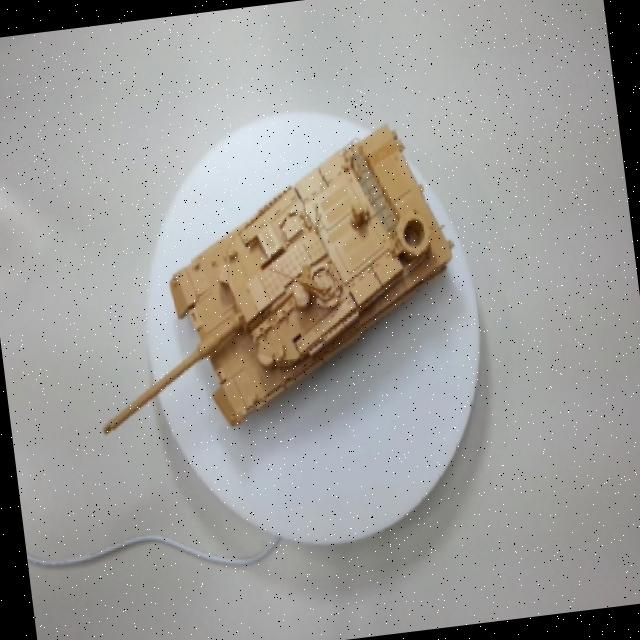korea tank: (61, 102, 519, 467)
